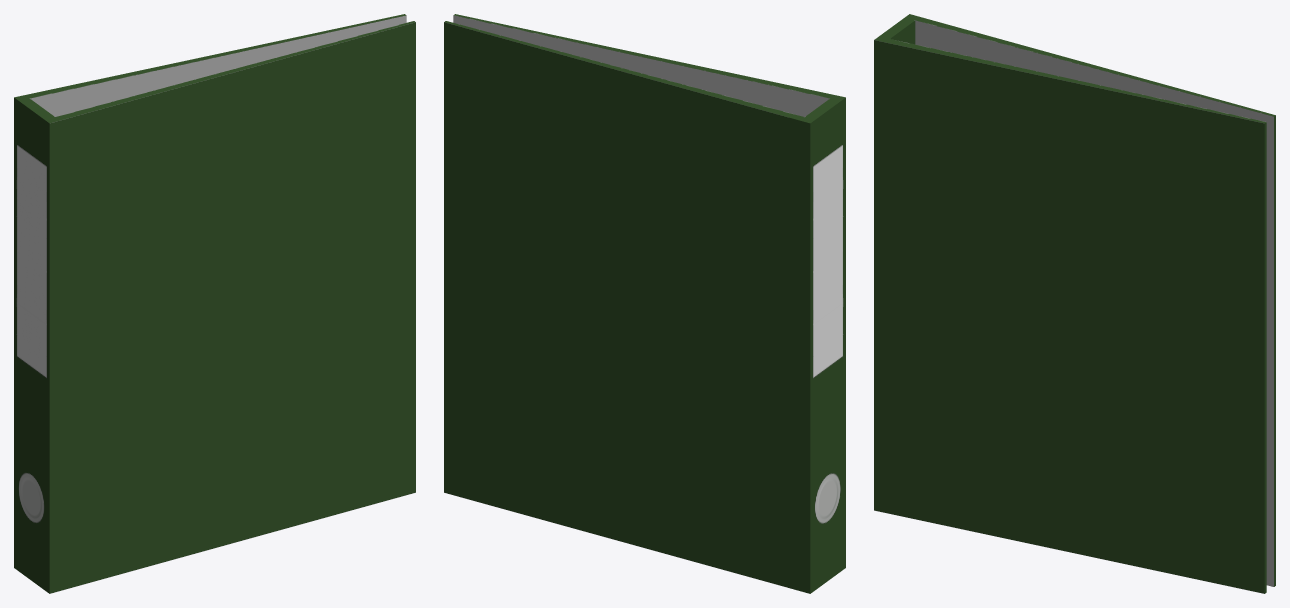
The model's file is ArchFolderGreen.fbx.
3 views of the same model, side by side, from view 1: azimuth 30°, elevation 25°; view 2: azimuth 150°, elevation 25°; view 3: azimuth 330°, elevation 25° (orthographic).
Parts seen in each view (by area): view 1: Arch Folder Green; view 2: Arch Folder Green; view 3: Arch Folder Green.
Part boxes in pixels (<box>): Arch Folder Green: <box>14,14,415,593</box>; Arch Folder Green: <box>444,14,845,593</box>; Arch Folder Green: <box>874,14,1275,593</box>.
Size of the model in its own units: 13.69 by 16.27 by 2.23.
1 material, 1 textured.
